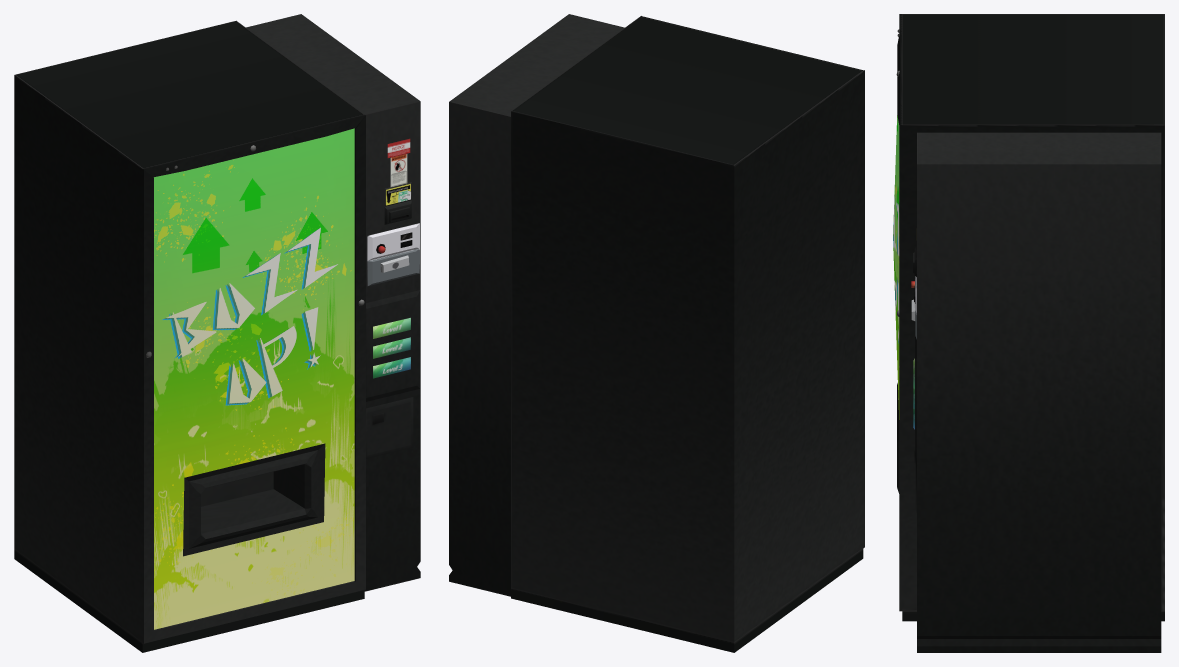
File: VendingMachine-Energy.fbx
3 views of the same model, side by side, from view 1: azimuth 30°, elevation 25°; view 2: azimuth 150°, elevation 25°; view 3: azimuth 270°, elevation 25° (orthographic). The views are drawn at different scales.
Parts seen in each view (by area): view 1: VendingMachine-Energy; view 2: VendingMachine-Energy; view 3: VendingMachine-Energy.
Part boxes in pixels (x1,y1,x2,y2): VendingMachine-Energy: (14,14,420,652); VendingMachine-Energy: (449,14,864,652); VendingMachine-Energy: (893,14,1164,652).
Bounding box in the file's own units: 257 × 417 × 207.
1 material, 1 textured.
